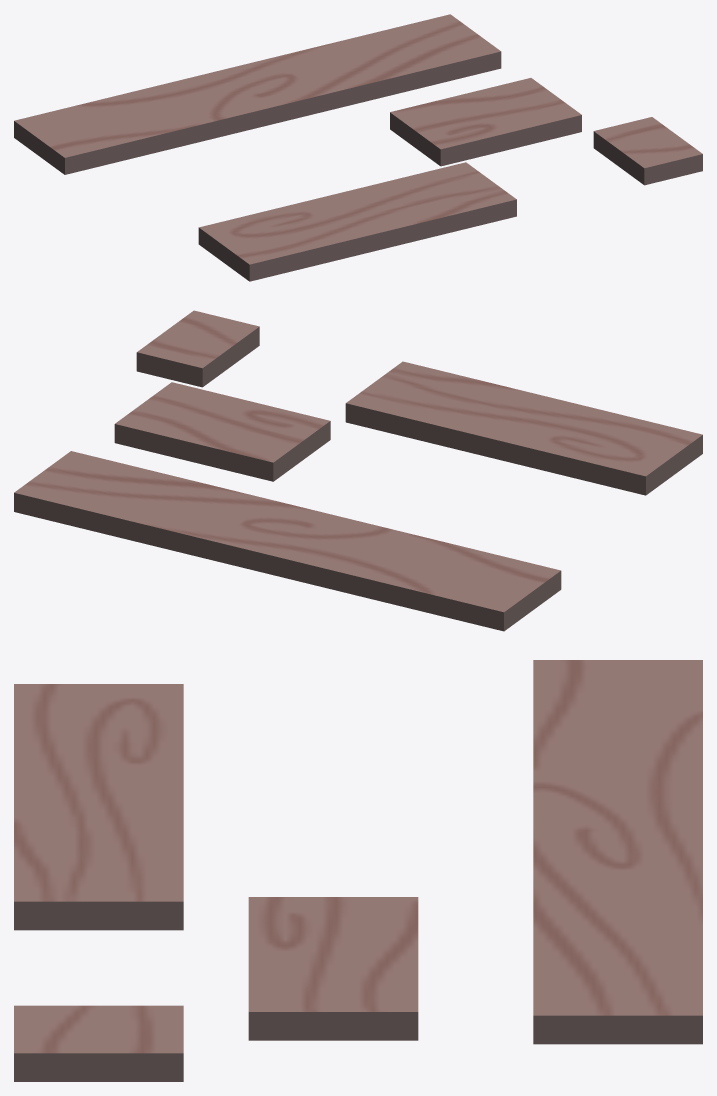
Rendered from bond_steps1.fbx.
3 renders of one model, top to bottom at view 1: azimuth 30°, elevation 25°; view 2: azimuth 150°, elevation 25°; view 3: azimuth 270°, elevation 25°, orthographic. The views are drawn at different scales.
Parts seen in each view (by area): view 1: Props_steps; view 2: Props_steps; view 3: Props_steps.
Part boxes in pixels (bbox=[...]): Props_steps: bbox=[14, 14, 702, 281]; Props_steps: bbox=[14, 310, 702, 631]; Props_steps: bbox=[14, 660, 702, 1081].
Size of the model in its own units: 263 by 8.9 by 195.
